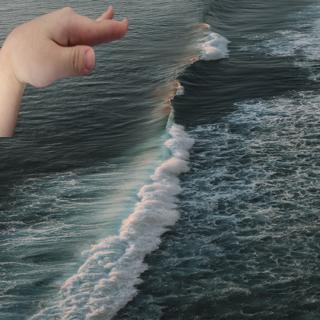Wait: (3, 2, 134, 92)
